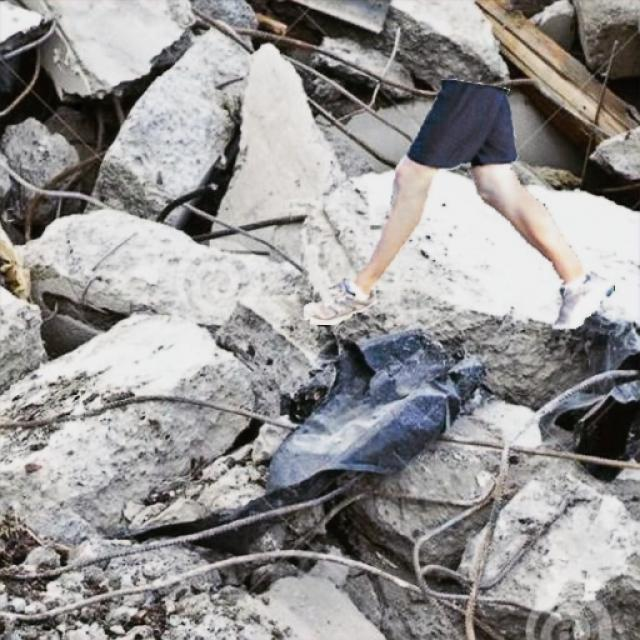Person in Rubble: (304, 79, 614, 328)
